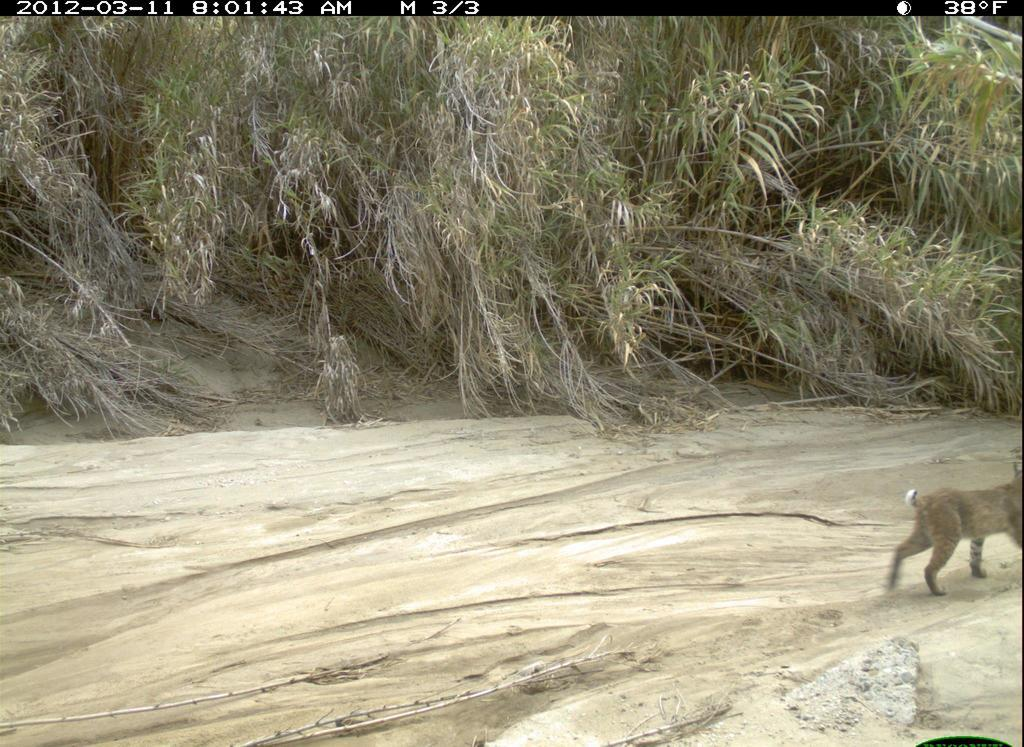bobcat: (879, 452, 1024, 603)
